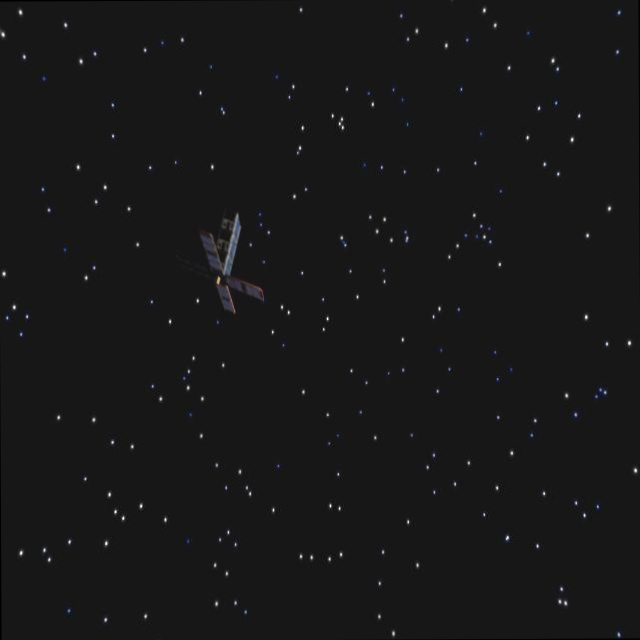medium_debris: (198, 205, 262, 330)
